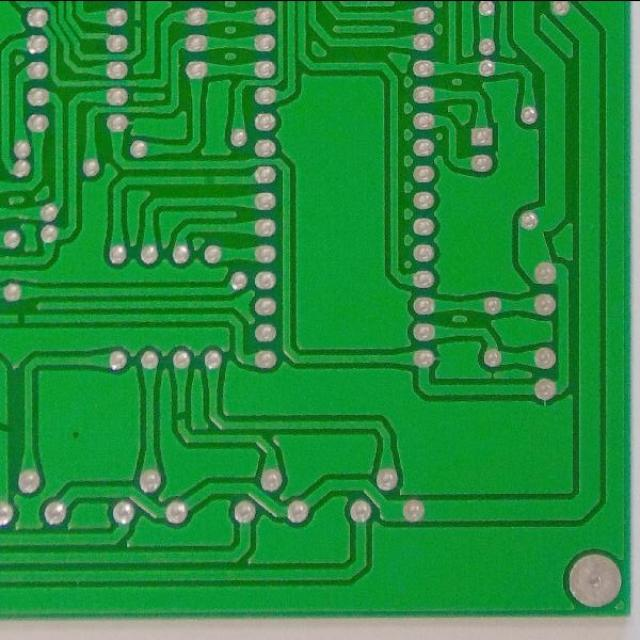open_circuit: (173, 406, 190, 424), (13, 310, 31, 326), (130, 16, 144, 32)
